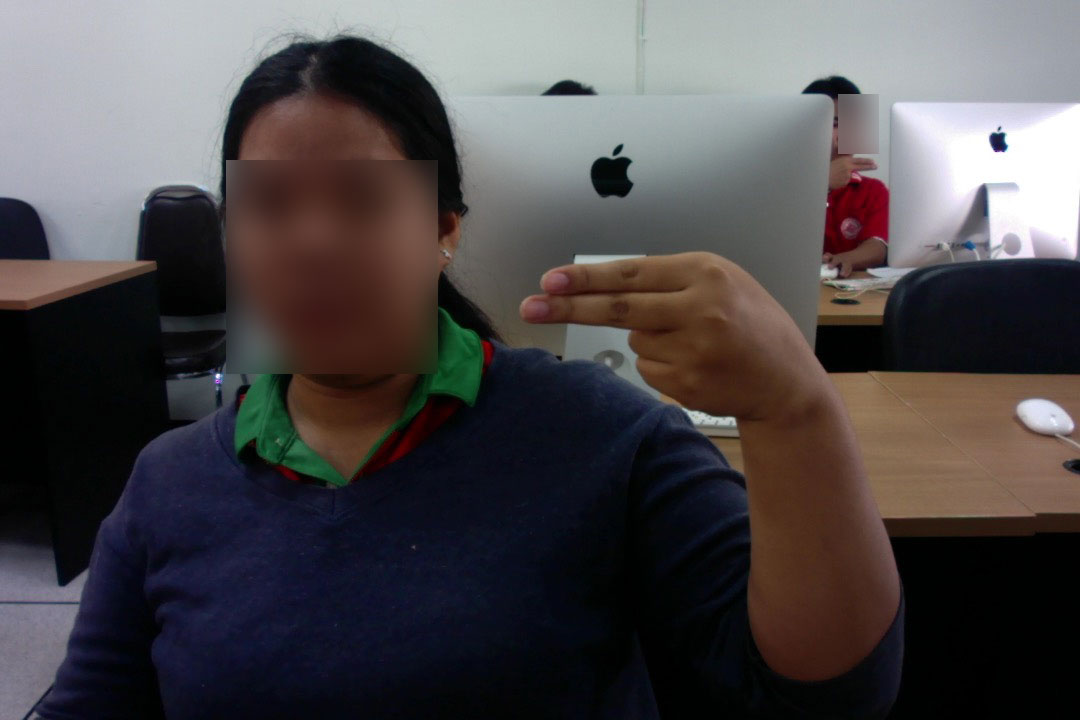hor: (507, 241, 825, 419)
